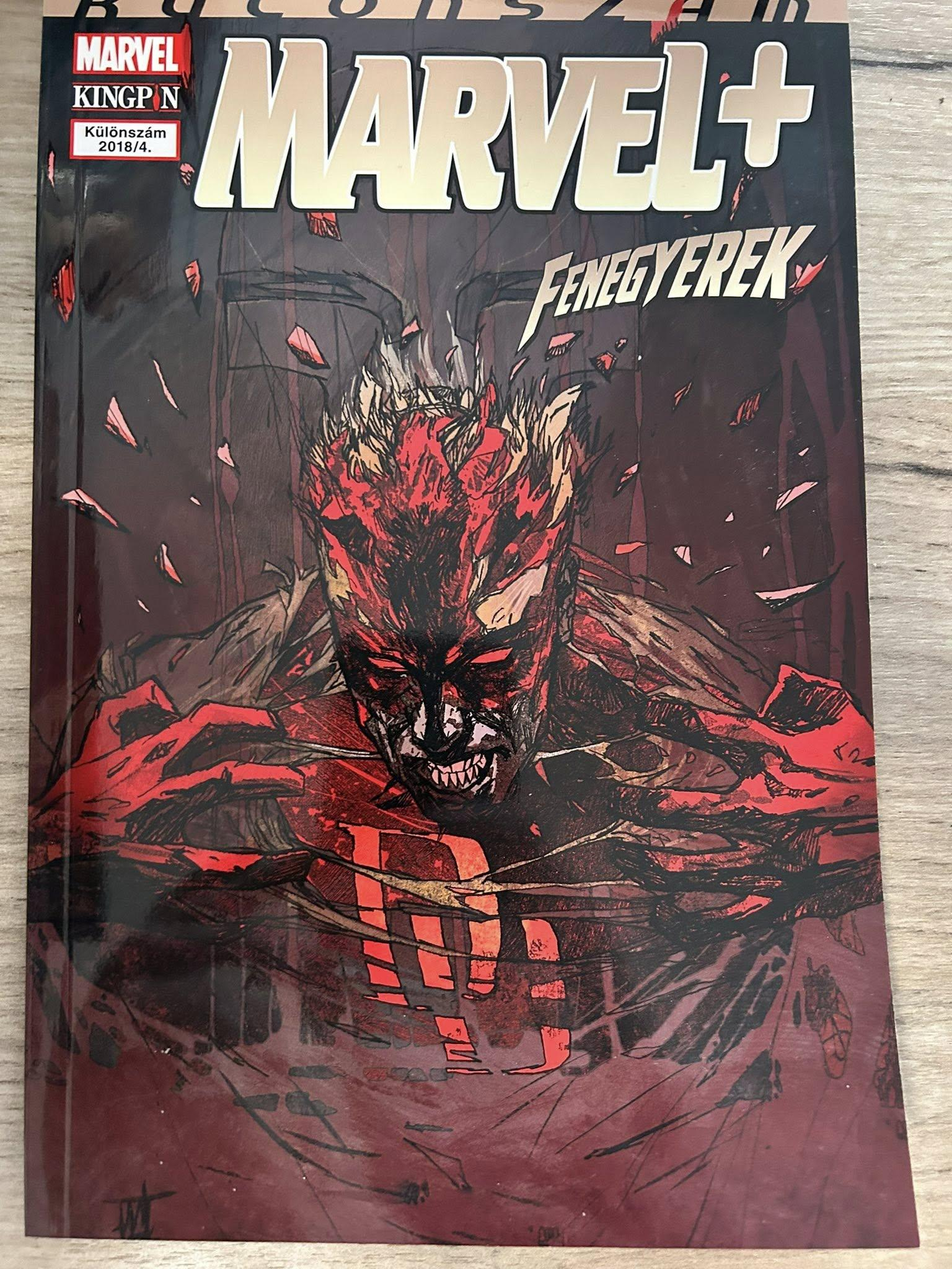comic: (27, 0, 916, 1247)
